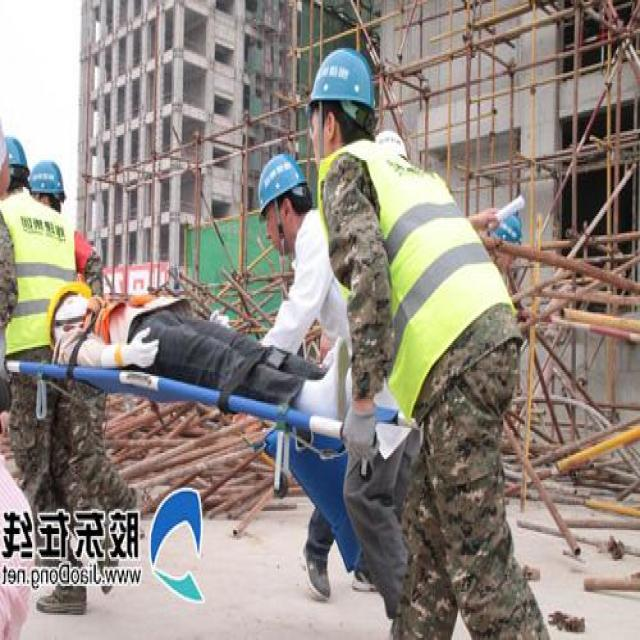Reflective-Jacket: (329, 143, 522, 426), (0, 196, 87, 362)
Safety-Helmet: (306, 42, 379, 114), (252, 144, 307, 218), (23, 153, 72, 205), (1, 127, 34, 191)
